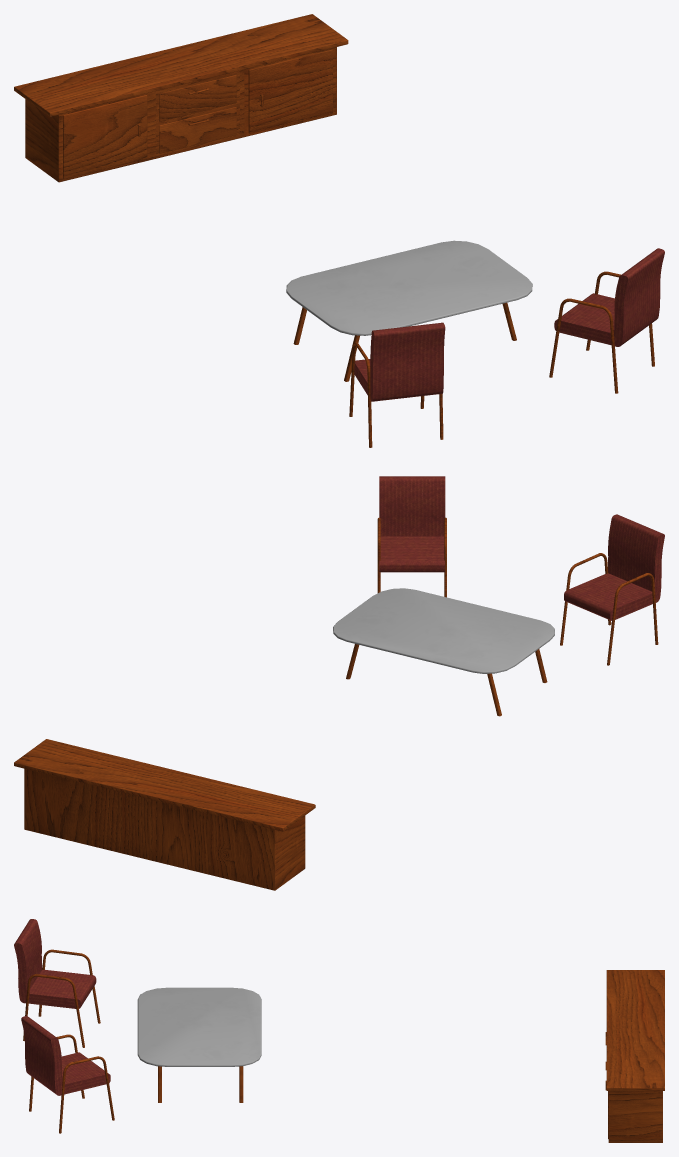
The model's file is PBR - Metallic Roughness Alpha-blend.glb.
The picture shows the model from 3 angles, top to bottom: view 1: azimuth 30°, elevation 25°; view 2: azimuth 150°, elevation 25°; view 3: azimuth 270°, elevation 25°; orthographic projection. The views are drawn at different scales.
Parts seen in each view (by area): view 1: Cabinet_1, Table, Chair1, Chair; view 2: Cabinet_1, Table, Chair1, Chair; view 3: Cabinet_1, Table, Chair1, Chair.
Boxes of the visible parts, x1,y1,x2,y2 form: Cabinet_1: [14, 14, 348, 182]; Table: [286, 240, 532, 381]; Chair1: [349, 322, 445, 447]; Chair: [549, 248, 664, 393]; Cabinet_1: [14, 739, 315, 890]; Table: [333, 588, 554, 716]; Chair1: [560, 514, 664, 665]; Chair: [377, 476, 446, 597]; Cabinet_1: [605, 970, 664, 1142]; Table: [137, 987, 261, 1102]; Chair1: [14, 919, 100, 1047]; Chair: [21, 1016, 114, 1133].
Bounding box in the file's own units: 4.05 × 1.42 × 8.53.
1 material, 1 textured.
